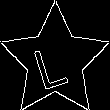L_N: (33, 32, 77, 90)
